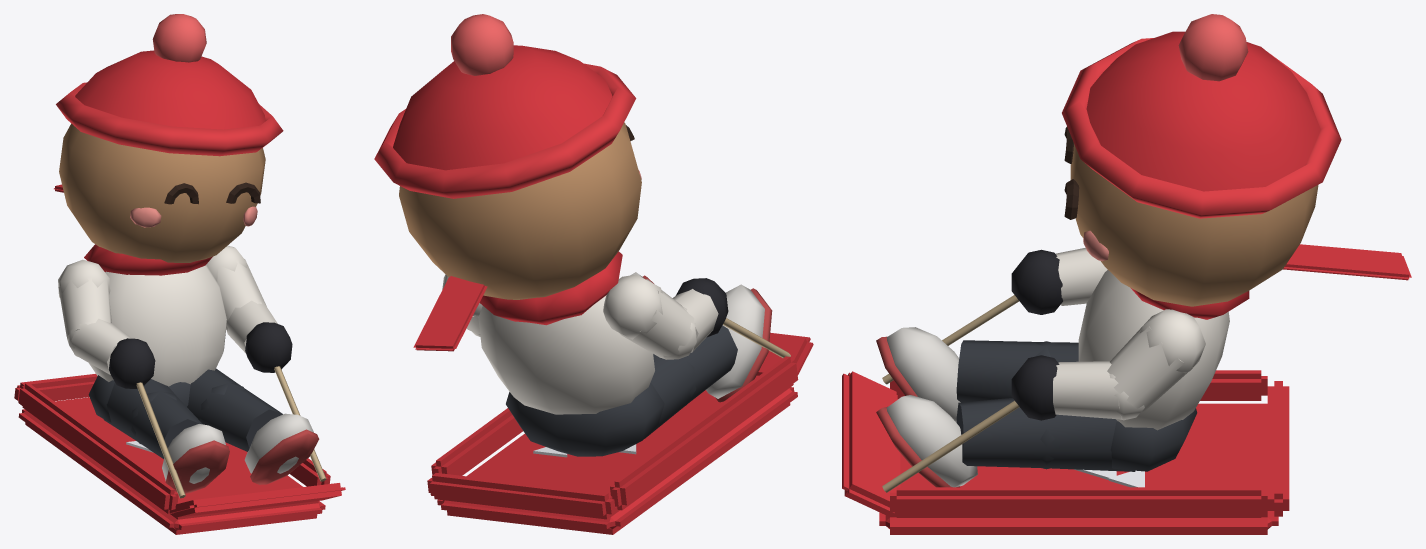
Rendered from rider_sled_ride.glb.
The picture shows the model from 3 angles, left to right: view 1: azimuth 30°, elevation 25°; view 2: azimuth 150°, elevation 25°; view 3: azimuth 270°, elevation 25°; orthographic projection. The views are drawn at different scales.
Parts seen in each view (by area): view 1: RSL_Head, RSL_Torso, RSL_Beanie, RSL_SledBase, RSL_Cuff, RSL_SledRim_-1, RSL_Shin_R, RSL_SledFront, RSL_Shin_L, RSL_Pom, RSL_UpperArm_L, RSL_Hand_R (+21 smaller); view 2: RSL_Head, RSL_Beanie, RSL_Torso, RSL_SledBase, RSL_Cuff, RSL_SledRim_-1, RSL_Pelvis, RSL_SledBack, RSL_Scarf, RSL_Pom, RSL_ScarfTail, RSL_Shoe_L (+10 smaller); view 3: RSL_Beanie, RSL_Head, RSL_SledBase, RSL_SledRim_1, RSL_Cuff, RSL_Torso, RSL_SledFront, RSL_Shin_R, RSL_Shoe_L, RSL_Shoe_R, RSL_Shin_L, RSL_Pom (+16 smaller).
Boxes of the visible parts, x1=… form: RSL_Head: x1=59, y1=123, x2=265, y2=262; RSL_Torso: x1=89, y1=264, x2=226, y2=386; RSL_Beanie: x1=75, y1=50, x2=265, y2=129; RSL_SledBase: x1=18, y1=397, x2=325, y2=534; RSL_Cuff: x1=56, y1=82, x2=283, y2=156; RSL_SledRim_-1: x1=18, y1=383, x2=178, y2=513; RSL_Shin_R: x1=201, y1=383, x2=282, y2=451; RSL_SledFront: x1=169, y1=483, x2=345, y2=517; RSL_Shin_L: x1=129, y1=391, x2=202, y2=458; RSL_Pom: x1=152, y1=14, x2=206, y2=62; RSL_UpperArm_L: x1=58, y1=276, x2=111, y2=339; RSL_Hand_R: x1=245, y1=322, x2=292, y2=372; RSL_Head: x1=399, y1=122, x2=641, y2=299; RSL_Beanie: x1=393, y1=45, x2=612, y2=170; RSL_Torso: x1=478, y1=295, x2=654, y2=414; RSL_SledBase: x1=437, y1=387, x2=797, y2=534; RSL_Cuff: x1=374, y1=63, x2=636, y2=198; RSL_SledRim_-1: x1=610, y1=356, x2=798, y2=510; RSL_Pelvis: x1=506, y1=382, x2=664, y2=456; RSL_SledBack: x1=427, y1=473, x2=615, y2=519; RSL_Scarf: x1=479, y1=251, x2=622, y2=325; RSL_Pom: x1=451, y1=14, x2=513, y2=75; RSL_ScarfTail: x1=413, y1=276, x2=487, y2=351; RSL_Shoe_L: x1=706, y1=284, x2=764, y2=398; RSL_Beanie: x1=1086, y1=31, x2=1320, y2=191; RSL_Head: x1=1070, y1=144, x2=1318, y2=306; RSL_SledBase: x1=879, y1=403, x2=1278, y2=534; RSL_SledRim_1: x1=890, y1=487, x2=1267, y2=517; RSL_Cuff: x1=1062, y1=38, x2=1341, y2=218; RSL_Torso: x1=1078, y1=270, x2=1229, y2=430; RSL_SledFront: x1=842, y1=371, x2=900, y2=516; RSL_Shin_R: x1=956, y1=398, x2=1050, y2=468; RSL_Shoe_L: x1=886, y1=327, x2=960, y2=422; RSL_Shoe_R: x1=886, y1=395, x2=977, y2=487; RSL_Shin_L: x1=956, y1=340, x2=1047, y2=402; RSL_Pom: x1=1178, y1=14, x2=1248, y2=81.
Bounding box in the file's own units: 0.6144 × 1.05 × 1.06.
